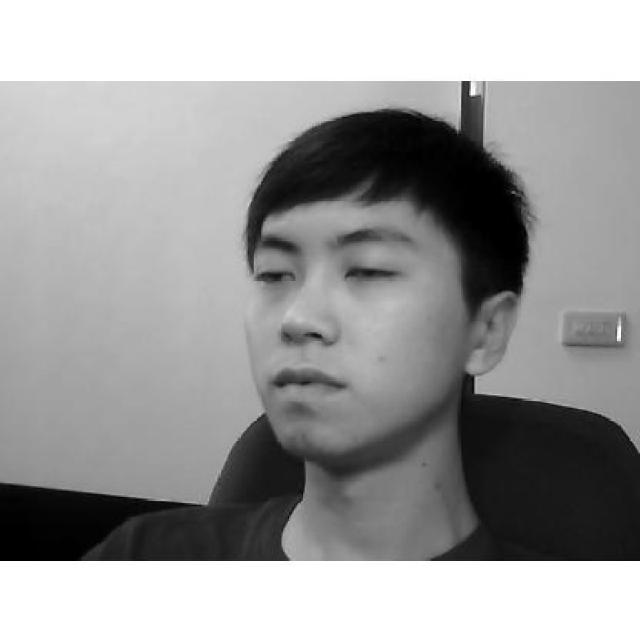inattentif: (241, 104, 519, 458)
